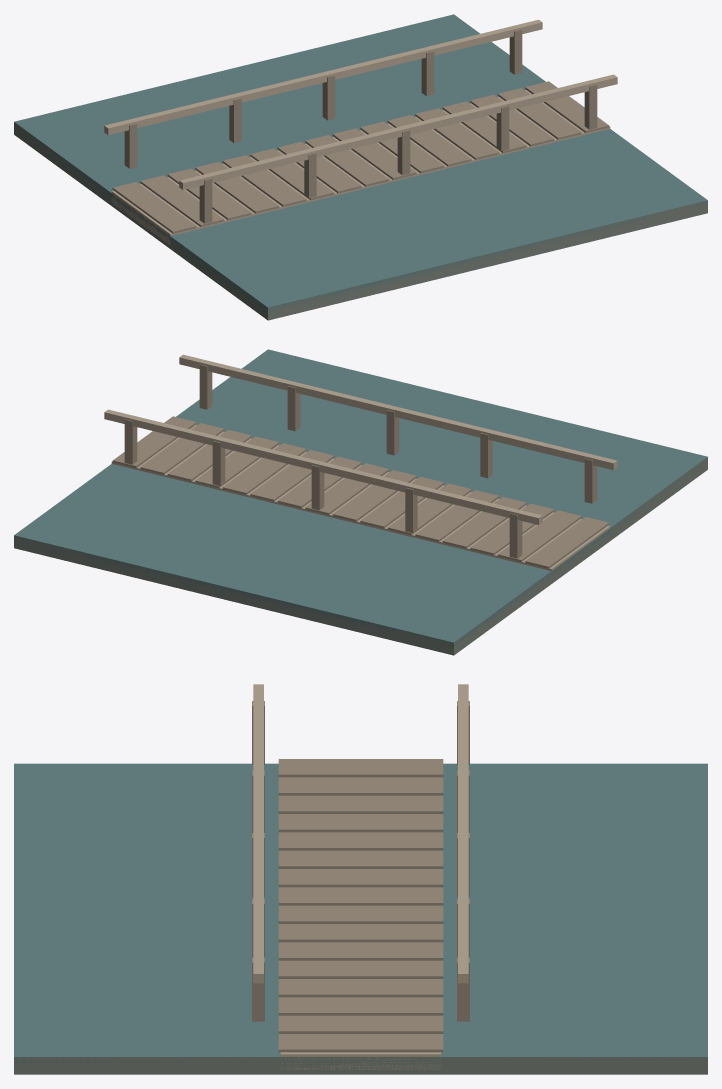
Rendered from bridge_marsh_ew.glb.
3 renders of one model, top to bottom at view 1: azimuth 30°, elevation 25°; view 2: azimuth 150°, elevation 25°; view 3: azimuth 270°, elevation 25°, orthographic. The views are drawn at different scales.
Visible parts, largest first — view 1: road_material_01, road_material_03, road_material_02, road_material_00; view 2: road_material_01, road_material_03, road_material_02, road_material_00; view 3: road_material_01, road_material_03, road_material_00, road_material_02.
Boxes of the visible parts, box(x1,y1,x2,y2) form: road_material_01: box(14, 14, 707, 311); road_material_03: box(112, 29, 609, 233); road_material_02: box(104, 19, 617, 245); road_material_00: box(14, 122, 707, 320); road_material_01: box(14, 349, 707, 646); road_material_03: box(112, 364, 609, 568); road_material_02: box(104, 354, 617, 570); road_material_00: box(14, 457, 707, 655); road_material_01: box(14, 763, 707, 1063); road_material_03: box(252, 701, 469, 1052); road_material_00: box(14, 1057, 707, 1074); road_material_02: box(253, 684, 468, 1069).
Bounding box in the file's own units: 8 × 1.26 × 8.
